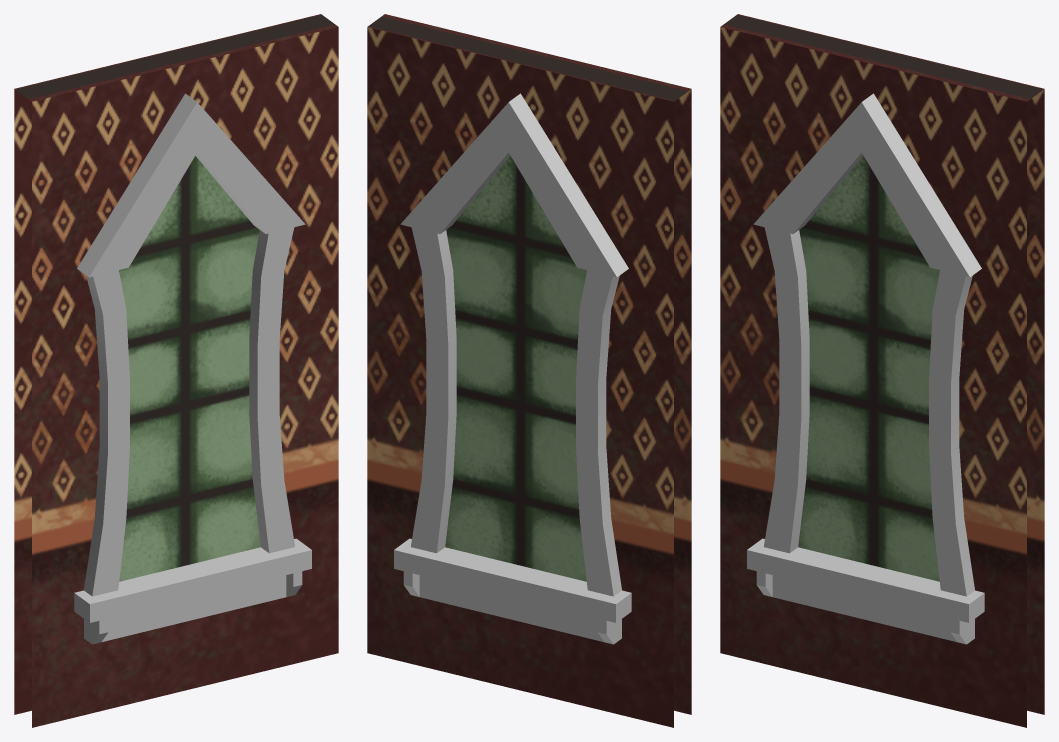
The model's file is Window.fbx.
3 renders of one model, left to right at view 1: azimuth 30°, elevation 25°; view 2: azimuth 150°, elevation 25°; view 3: azimuth 330°, elevation 25°, orthographic.
Parts seen in each view (by area): view 1: Window_wall1, Window; view 2: Window_wall1, Window; view 3: Window_wall1, Window.
Boxes of the visible parts, x1,y1,x2,y2 form: Window_wall1: (14, 14, 338, 727); Window: (74, 93, 311, 644); Window_wall1: (367, 14, 691, 727); Window: (394, 93, 631, 644); Window_wall1: (720, 14, 1044, 727); Window: (747, 93, 984, 644).
Size of the model in its own units: 1 by 1.95 by 0.2763.
